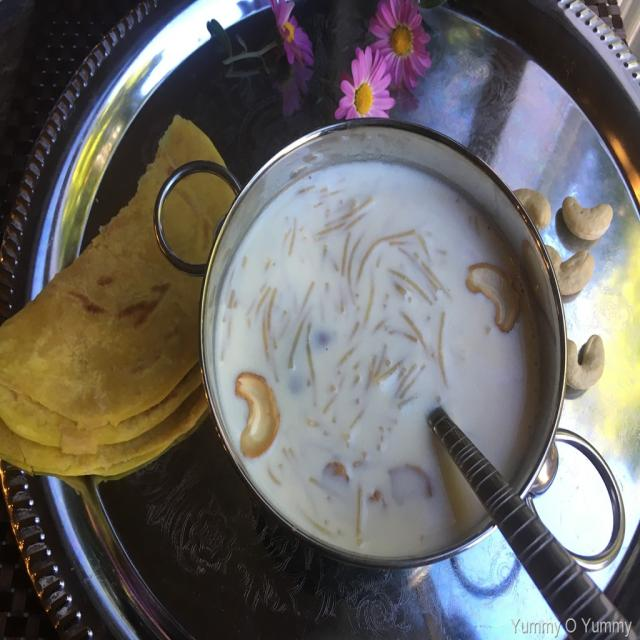shavige payasa: (203, 136, 567, 575)
